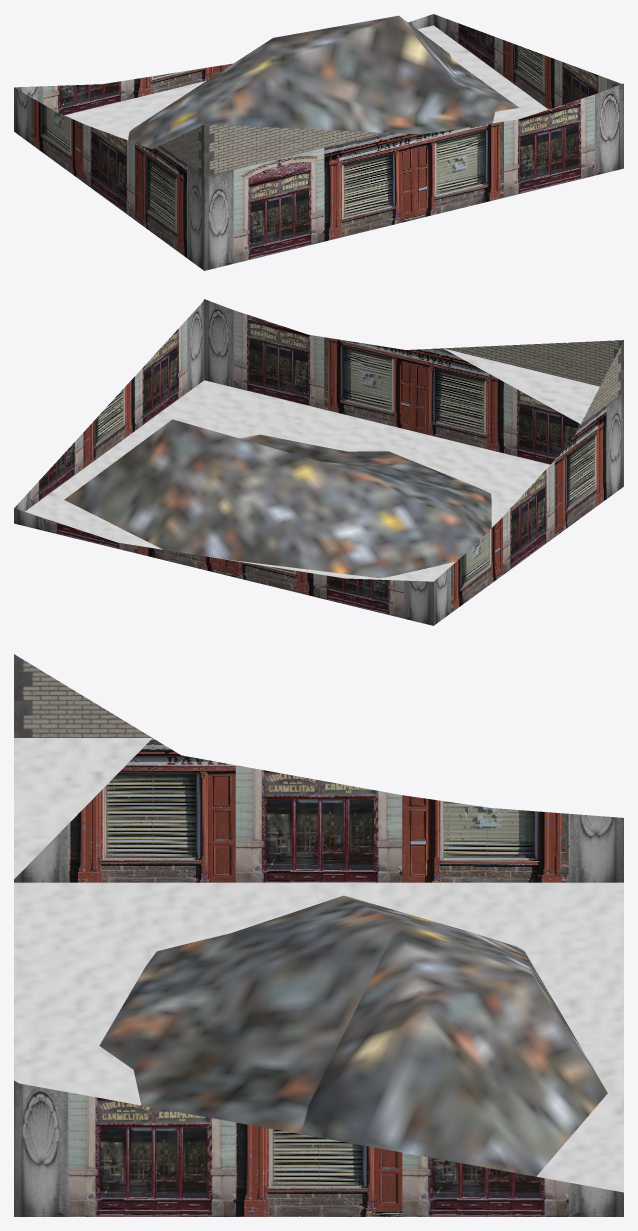
The model's file is House_001_destroyed_002.dae.
The picture shows the model from 3 angles, top to bottom: view 1: azimuth 30°, elevation 25°; view 2: azimuth 150°, elevation 25°; view 3: azimuth 270°, elevation 25°; orthographic projection. The views are drawn at different scales.
Parts seen in each view (by area): view 1: House_001; view 2: House_001; view 3: House_001.
Part boxes in pixels (x1,y1,x2,y2): House_001: (14, 14, 623, 270); House_001: (14, 299, 623, 625); House_001: (14, 654, 623, 1216).
Bounding box in the file's own units: 112 × 88 × 37.37.
1 material, 1 textured.
